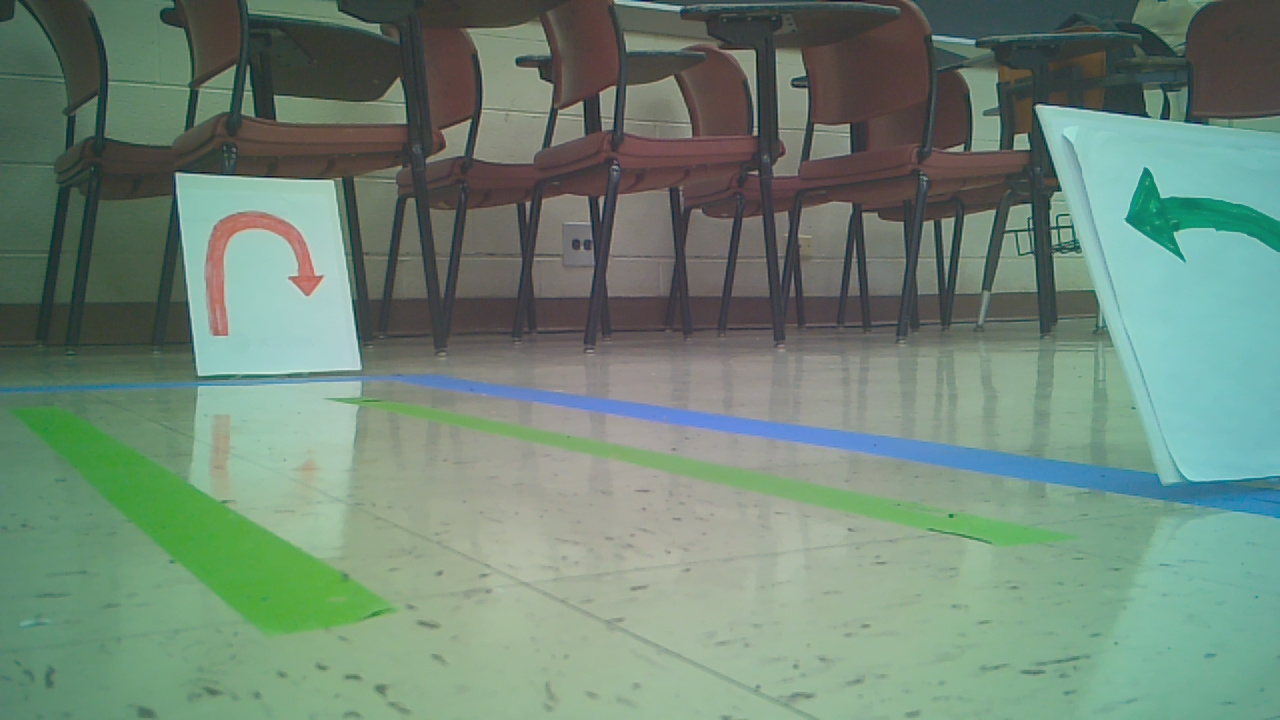greenline: (332, 400, 1070, 548), (7, 405, 391, 621)
uturn: (178, 169, 363, 374)
